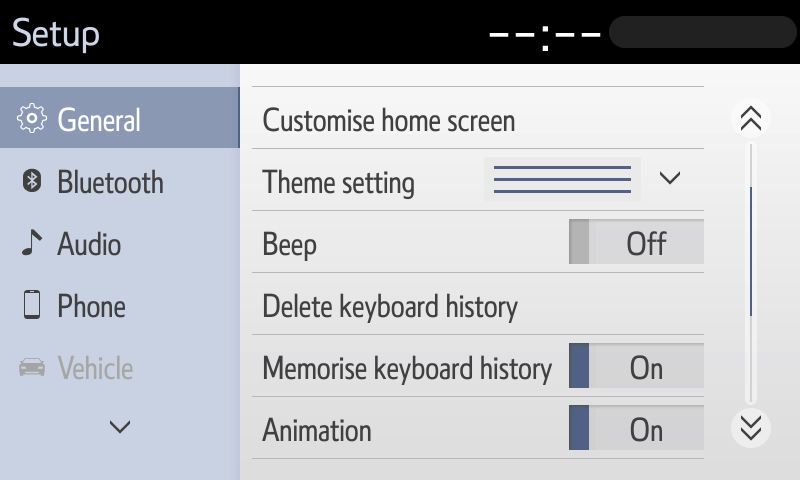touchPart: (248, 78, 717, 154), (247, 206, 715, 282), (246, 392, 713, 467), (248, 269, 713, 339), (246, 145, 714, 214), (247, 331, 710, 400), (20, 161, 176, 199), (16, 281, 142, 327), (22, 222, 135, 260), (729, 408, 774, 450), (731, 105, 767, 135), (109, 417, 140, 438)
untouchPart: (1, 83, 242, 153), (478, 11, 797, 53), (18, 346, 139, 391), (11, 12, 105, 55)
